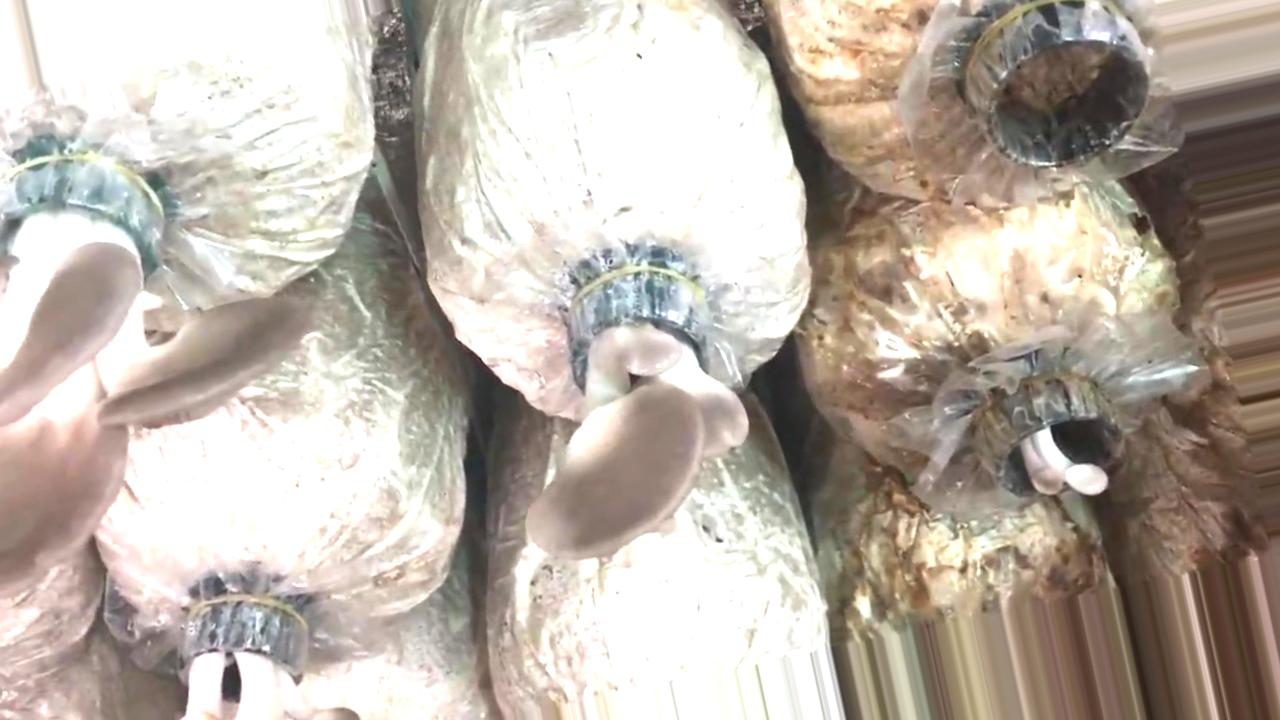nam: (1, 149, 311, 593), (531, 271, 750, 559), (988, 391, 1124, 496)
